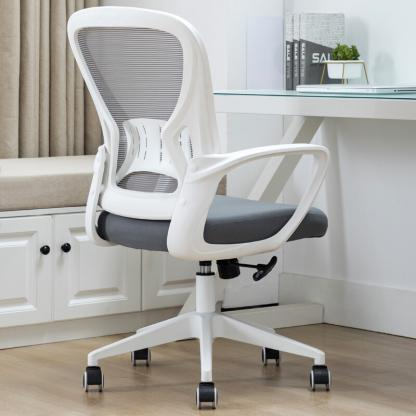chair: (60, 2, 340, 416)
sofa: (0, 139, 107, 210)
table: (209, 63, 416, 204)
